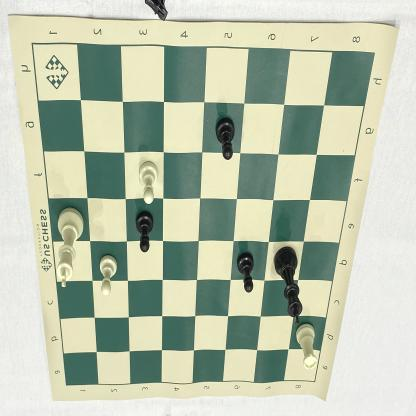black-king: (271, 240, 306, 326)
black-pawn: (213, 113, 237, 164), (135, 208, 157, 257), (236, 250, 258, 296)
white-king: (53, 202, 89, 290)
white-pawn: (137, 159, 162, 206), (96, 254, 119, 298)
white-rook: (295, 319, 321, 373)
